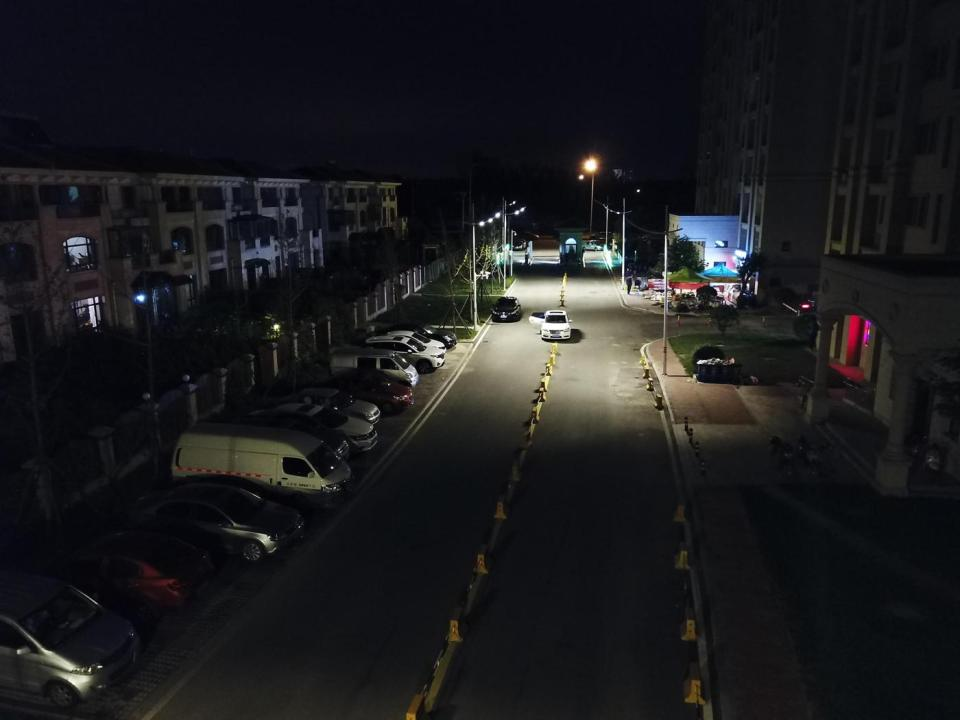car: (126, 476, 303, 564), (56, 532, 216, 610), (219, 411, 348, 480), (252, 402, 376, 459), (274, 387, 382, 431), (316, 370, 414, 416), (366, 334, 443, 374), (388, 320, 459, 351), (380, 332, 446, 357), (529, 309, 574, 342), (490, 295, 523, 324), (581, 240, 607, 253), (589, 230, 613, 242), (521, 230, 540, 240), (514, 240, 528, 250), (513, 241, 523, 252)
van: (0, 569, 144, 708), (167, 421, 356, 510), (330, 347, 418, 388)
